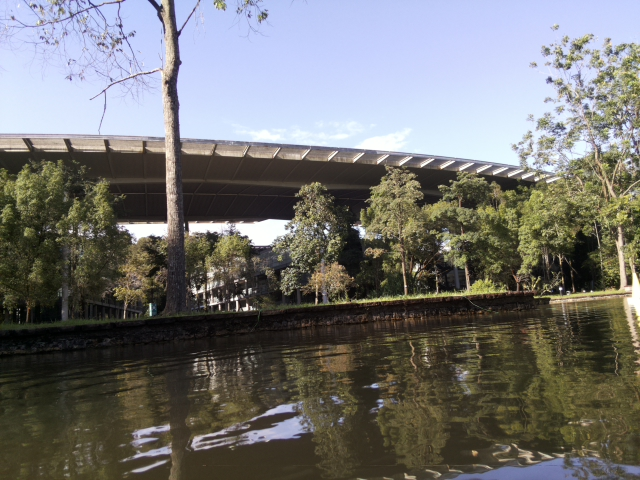checkpoint: (624, 271, 640, 306)
